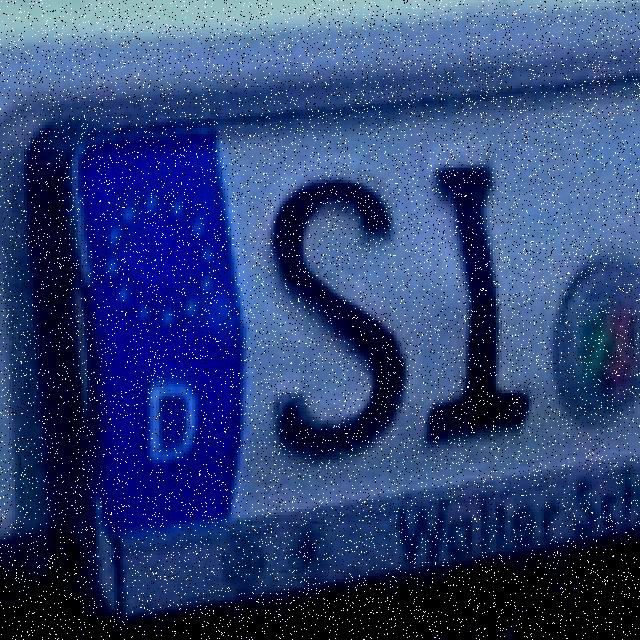licenseplate: (28, 92, 636, 624)
